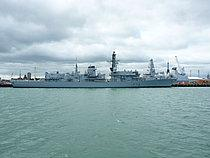MIL_Ship: (10, 51, 179, 89)
